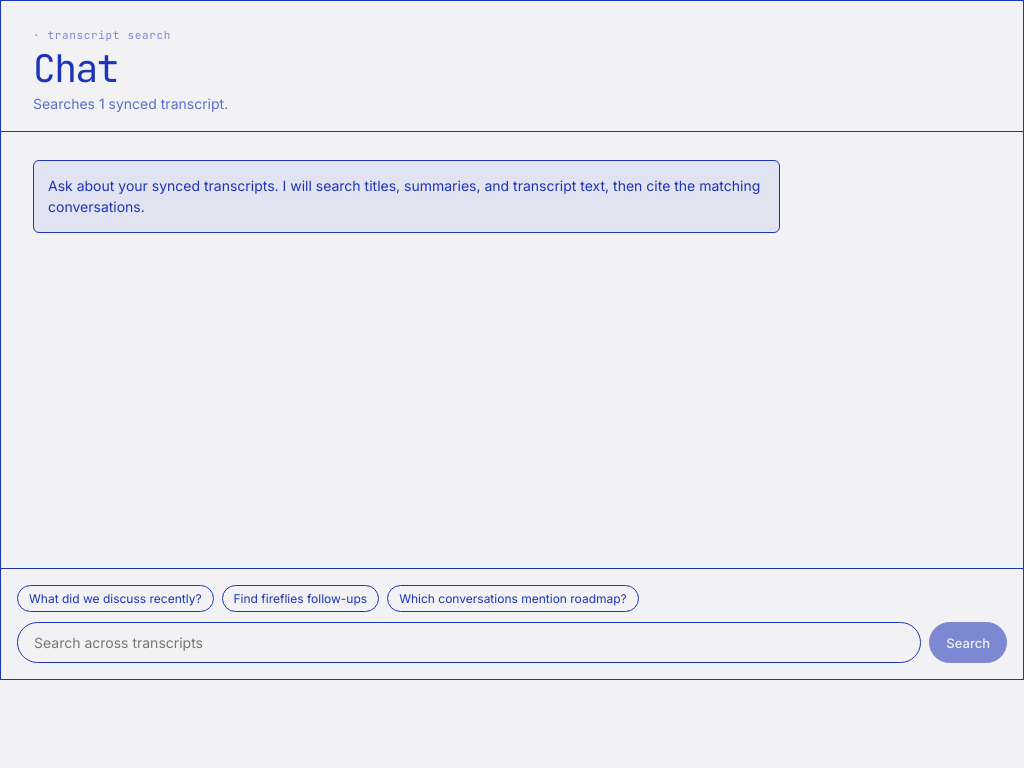
Test: ChatScreen › uses cached detail data for chat results while detail refreshes
This screenshot has width=1024, height=768.
Expected: the text "Searches 1 synced transcript." is shown, x1=33 y1=95 x2=228 y2=112
In the field with placeholder "Search across transcripts": (469, 642) x1=17 y1=622 x2=921 y2=663, type "roadmap"
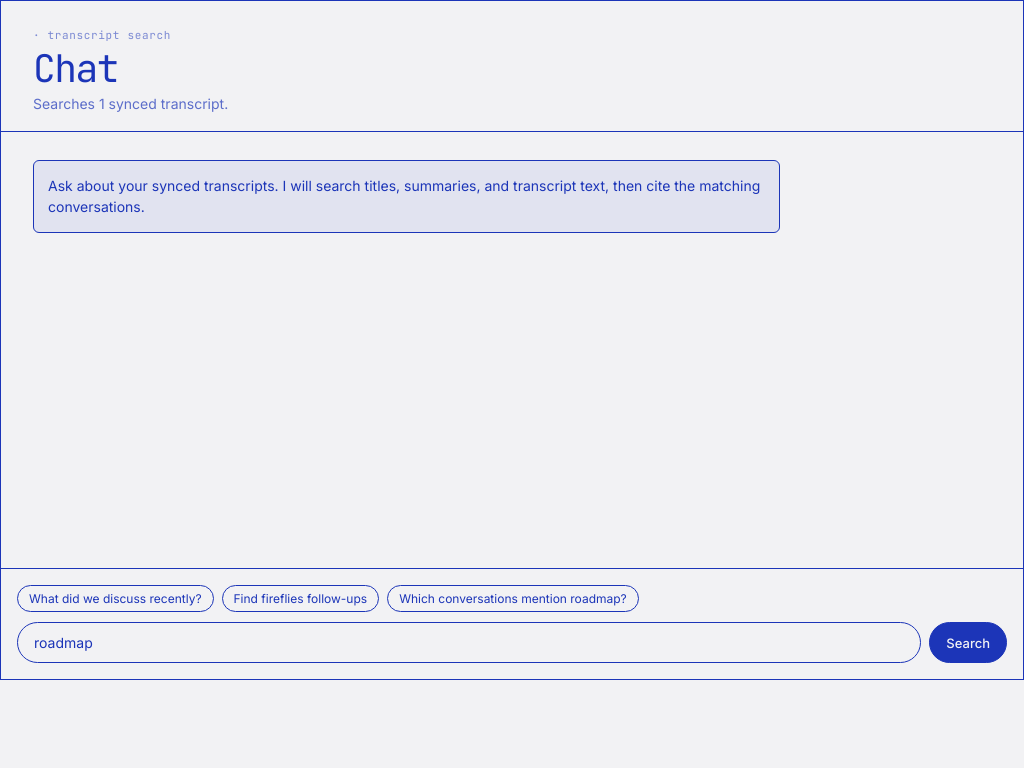
Click the button "Search": (968, 642) x1=929 y1=622 x2=1007 y2=663
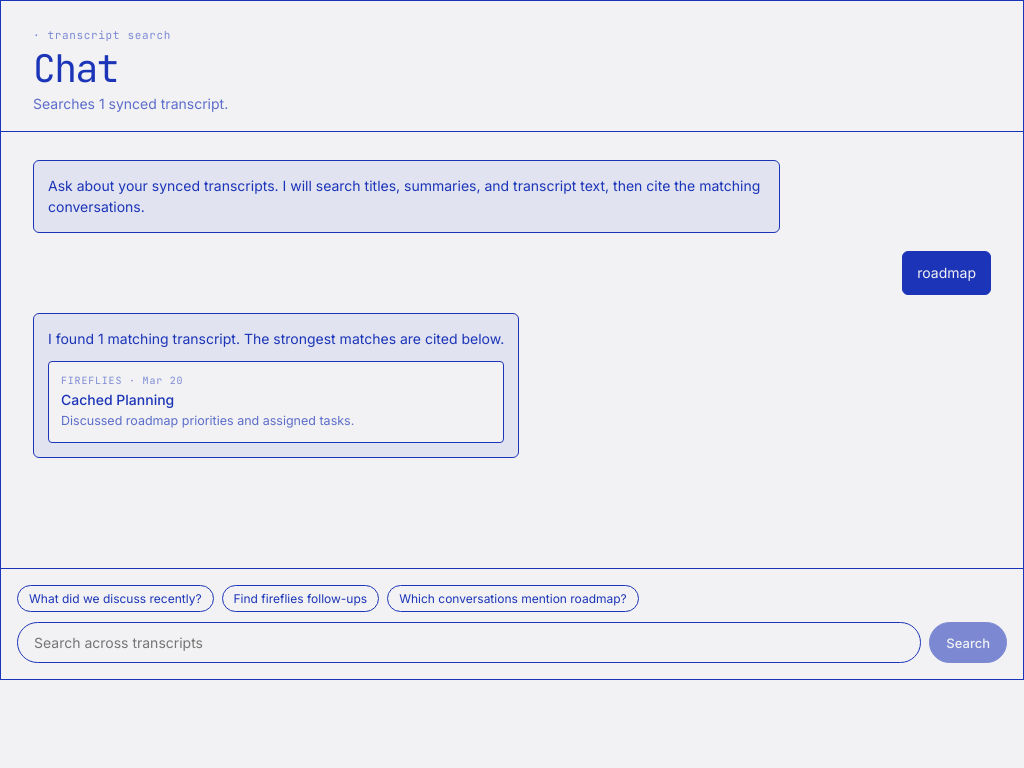
Expected: the text "I found 1 matching transcript" is shown, x1=48 y1=330 x2=504 y2=347
Expected: the text "Cached Planning" is shown, x1=61 y1=391 x2=174 y2=408
Expected: the text "Discussed roadmap priorities and assigned tasks." is shown, x1=61 y1=413 x2=354 y2=428
